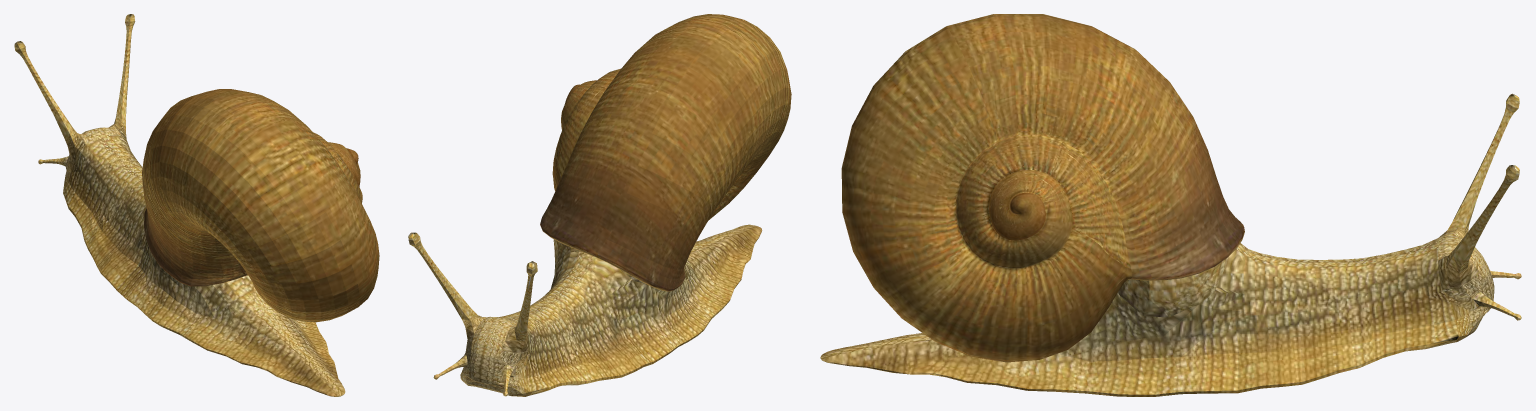
3 renders of one model, left to right at view 1: azimuth 30°, elevation 25°; view 2: azimuth 150°, elevation 25°; view 3: azimuth 270°, elevation 25°, orthographic. The views are drawn at different scales.
Visible parts, largest first — view 1: sw_dw_wn_ke, sw_dw_wn_shen, sw_dw_wn_ke3; view 2: sw_dw_wn_shen, sw_dw_wn_ke, sw_dw_wn_ke3; view 3: sw_dw_wn_ke3, sw_dw_wn_shen, sw_dw_wn_ke.
Part boxes in pixels (x1=…): sw_dw_wn_ke: x1=142, y1=96, x2=359, y2=322; sw_dw_wn_shen: x1=14, y1=14, x2=345, y2=396; sw_dw_wn_ke3: x1=182, y1=89, x2=379, y2=306; sw_dw_wn_shen: x1=408, y1=224, x2=762, y2=396; sw_dw_wn_ke: x1=595, y1=18, x2=791, y2=291; sw_dw_wn_ke3: x1=540, y1=14, x2=741, y2=256; sw_dw_wn_ke3: x1=842, y1=16, x2=1244, y2=362; sw_dw_wn_shen: x1=820, y1=93, x2=1521, y2=396; sw_dw_wn_ke: x1=841, y1=14, x2=1135, y2=279.
Size of the model in its own units: 8.89 by 11.47 by 22.51.
